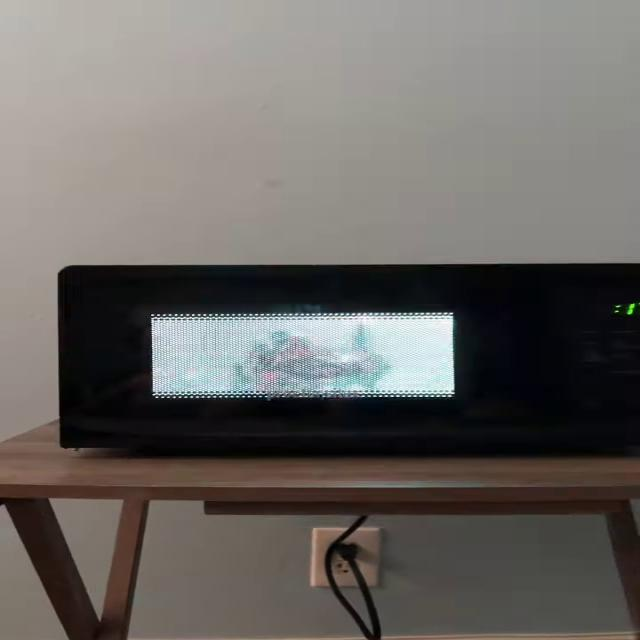fire: (152, 320, 447, 395)
